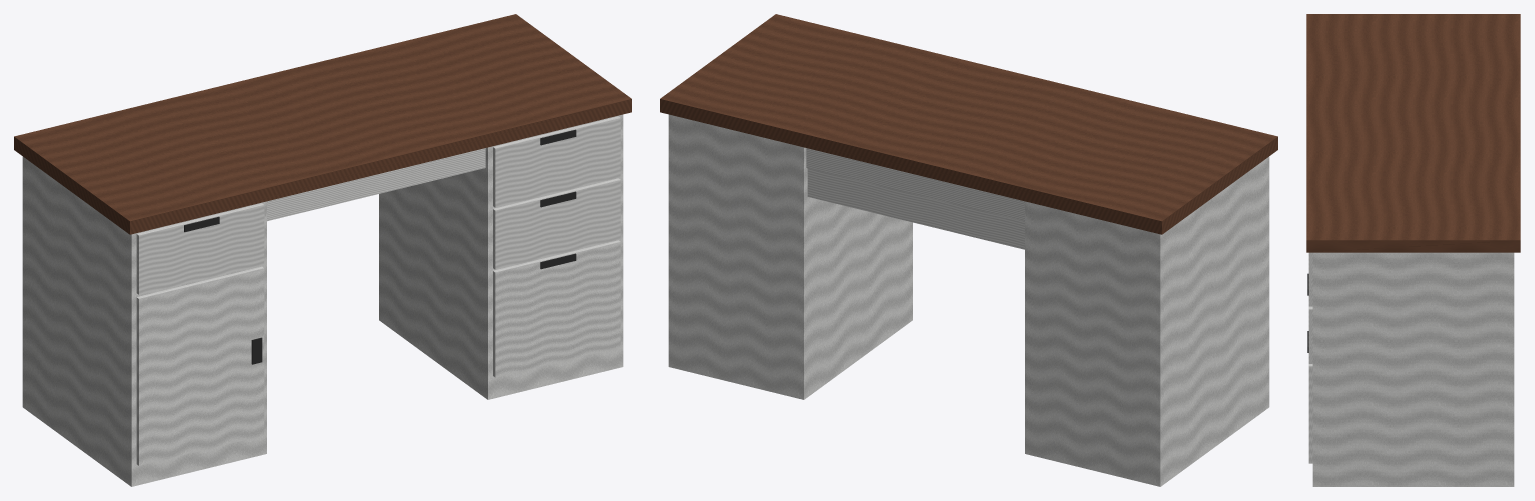
3 views of the same model, side by side, from view 1: azimuth 30°, elevation 25°; view 2: azimuth 150°, elevation 25°; view 3: azimuth 270°, elevation 25° (orthographic). The views are drawn at different scales.
Visible parts, largest first — view 1: 1 tabletop, 2 left_pedestal, 3 right_pedestal, 7 left_cabinet_door, 10 right_bottom_drawer, 6 left_top_drawer, 8 right_top_drawer, 9 right_middle_drawer, 4 keyboard_tray; view 2: 1 tabletop, 2 left_pedestal, 3 right_pedestal, 5 center_back_apron, 4 keyboard_tray; view 3: 1 tabletop, 3 right_pedestal, 10 right_bottom_drawer, 9 right_middle_drawer, 8 right_top_drawer.
Part boxes in pixels (bbox=[...]): 1 tabletop: bbox=[14, 14, 631, 234]; 2 left_pedestal: bbox=[22, 156, 266, 486]; 3 right_pedestal: bbox=[379, 114, 623, 399]; 7 left_cabinet_door: bbox=[136, 266, 264, 465]; 10 right_bottom_drawer: bbox=[493, 240, 620, 377]; 6 left_top_drawer: bbox=[136, 203, 264, 294]; 8 right_top_drawer: bbox=[493, 116, 620, 207]; 9 right_middle_drawer: bbox=[493, 178, 620, 269]; 4 keyboard_tray: bbox=[267, 148, 485, 221]; 1 tabletop: bbox=[660, 14, 1277, 234]; 2 left_pedestal: bbox=[1025, 156, 1269, 486]; 3 right_pedestal: bbox=[668, 114, 912, 399]; 5 center_back_apron: bbox=[807, 168, 1024, 249]; 4 keyboard_tray: bbox=[806, 148, 1024, 221]; 1 tabletop: bbox=[1306, 14, 1520, 252]; 3 right_pedestal: bbox=[1312, 252, 1514, 486]; 10 right_bottom_drawer: bbox=[1308, 364, 1312, 463]; 9 right_middle_drawer: bbox=[1308, 306, 1312, 363]; 8 right_top_drawer: bbox=[1308, 252, 1312, 306].
Size of the model in its own units: 1.95 by 1 by 0.78.
Materials: 3 (2 with a texture image).
